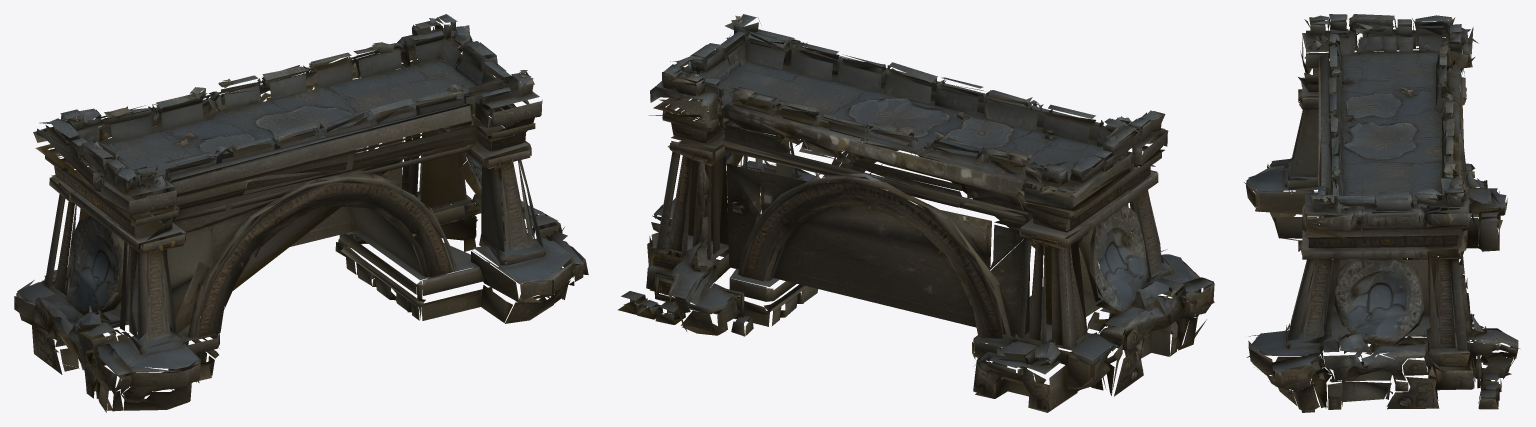
The model's file is ch3_massive_bridge_section_LOD2.glb.
3 views of the same model, side by side, from view 1: azimuth 30°, elevation 25°; view 2: azimuth 150°, elevation 25°; view 3: azimuth 270°, elevation 25° (orthographic). The views are drawn at different scales.
Visible parts, largest first — view 1: tripo_node_51e6d6be-b1e7-401e-8ef0-a97a538cec37; view 2: tripo_node_51e6d6be-b1e7-401e-8ef0-a97a538cec37; view 3: tripo_node_51e6d6be-b1e7-401e-8ef0-a97a538cec37.
Boxes of the visible parts, x1,y1,x2,y2 form: tripo_node_51e6d6be-b1e7-401e-8ef0-a97a538cec37: (14,14,588,412); tripo_node_51e6d6be-b1e7-401e-8ef0-a97a538cec37: (618,14,1214,412); tripo_node_51e6d6be-b1e7-401e-8ef0-a97a538cec37: (1244,14,1519,412).
Bounding box in the file's own units: 1.01 × 0.4706 × 0.5597.
Materials: 1 (1 with a texture image).
